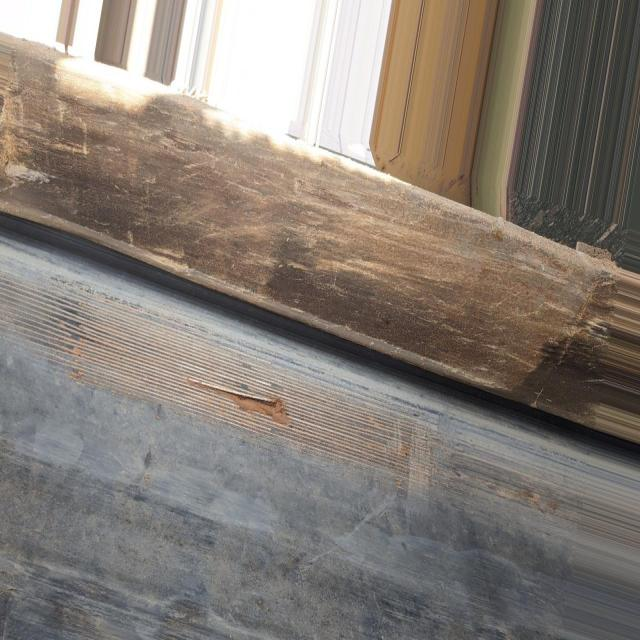impact damage: (69, 282, 432, 472)
